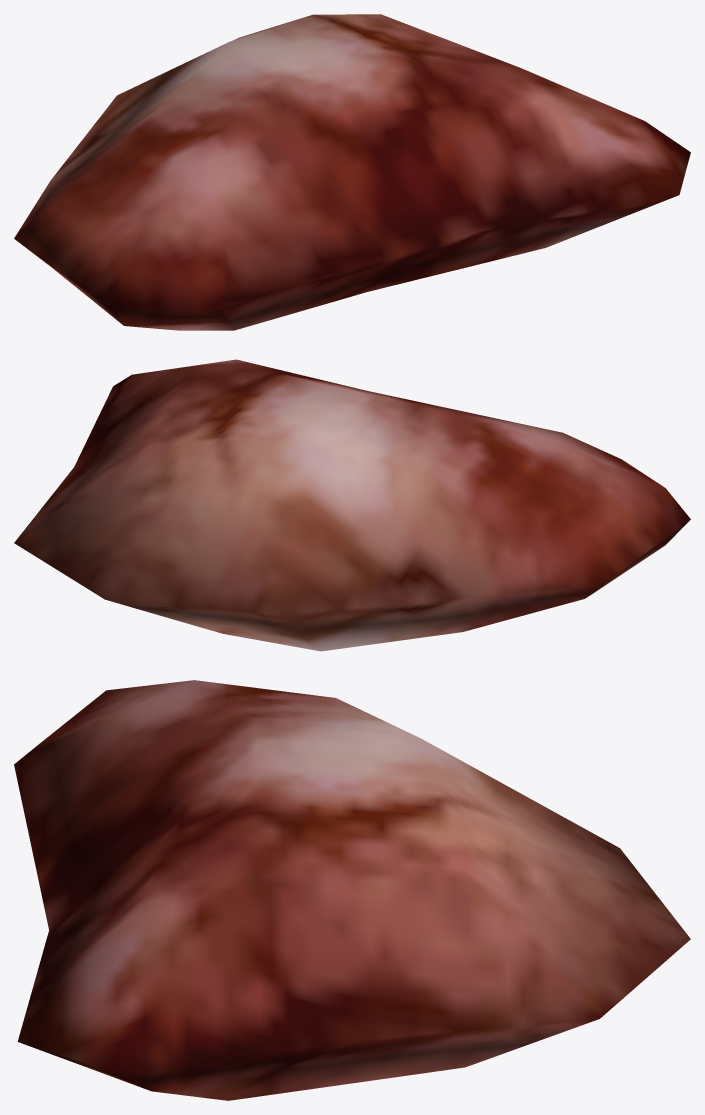
The model's file is brain_chunk_02.dae.
The picture shows the model from 3 angles, top to bottom: view 1: azimuth 30°, elevation 25°; view 2: azimuth 150°, elevation 25°; view 3: azimuth 270°, elevation 25°; orthographic projection. The views are drawn at different scales.
Visible parts, largest first — view 1: chunk_02; view 2: chunk_02; view 3: chunk_02.
Part boxes in pixels (left/top/right/bottom): chunk_02: left=14, top=14, right=690, bottom=330; chunk_02: left=14, top=359, right=690, bottom=651; chunk_02: left=14, top=680, right=690, bottom=1100.
Size of the model in its own units: 0.1303 by 0.0465 by 0.1033.
